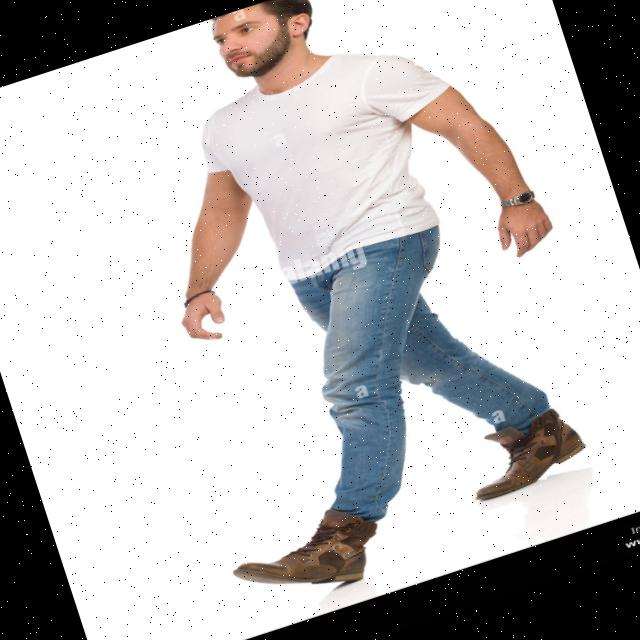Person: (69, 0, 638, 615)
